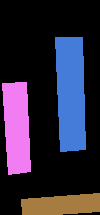parkingspot: (55, 37, 85, 151), (2, 82, 30, 174), (21, 193, 100, 215)
